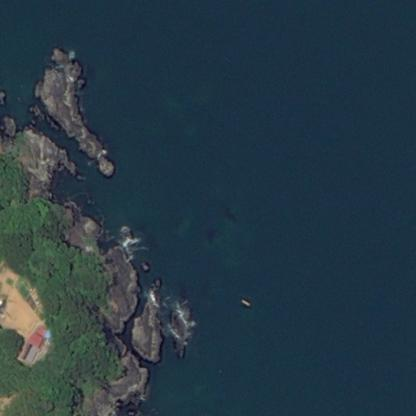ship: (241, 298, 250, 306)
